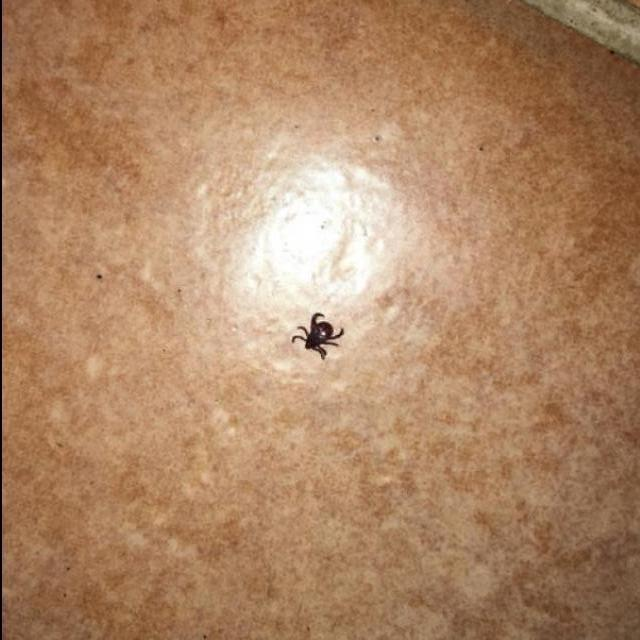Rhipicephalus Sanguineus-M: (282, 309, 346, 366)
